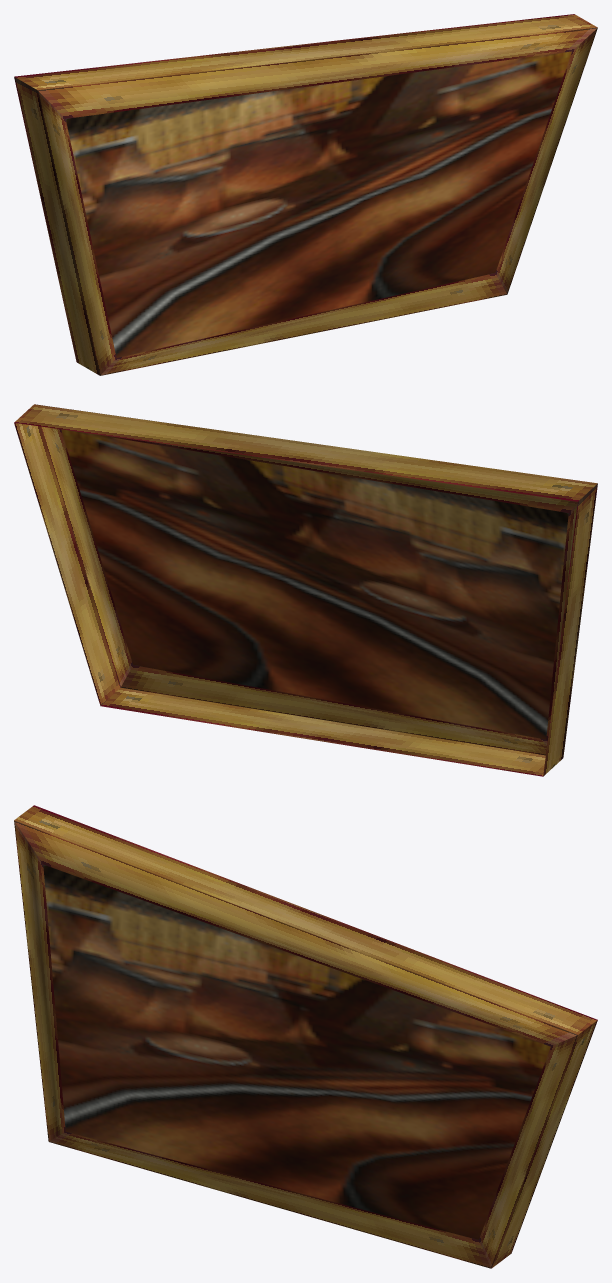
File: Beach_Skatepark_Sign.FBX
The picture shows the model from 3 angles, top to bottom: view 1: azimuth 30°, elevation 25°; view 2: azimuth 150°, elevation 25°; view 3: azimuth 330°, elevation 25°; orthographic projection. The views are drawn at different scales.
Visible parts, largest first — view 1: sign; view 2: sign; view 3: sign.
Boxes of the visible parts, x1,y1,x2,y2 form: sign: (14, 14, 597, 375); sign: (14, 404, 597, 776); sign: (14, 805, 597, 1268).
Bounding box in the file's own units: 349 × 190 × 39.45.
